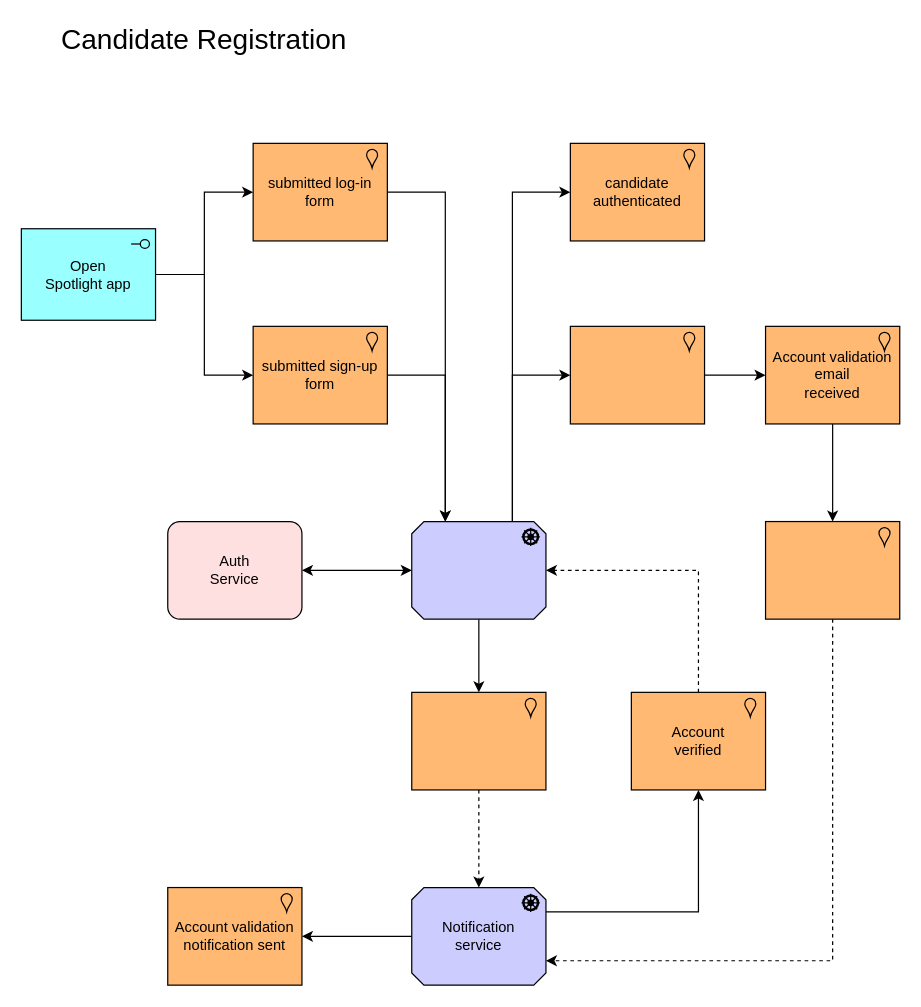
Image size: 921x1007. Some labels were removed from this diagram. The shapes that lost their labels are listed below. From the top down, each one's centre as x and y in pixels, then its label:
At point (637, 374): "account created".
At point (478, 569): "Account Management".
At point (832, 569): "Replied to account verification".
At point (478, 740): "Account validation triggered".
